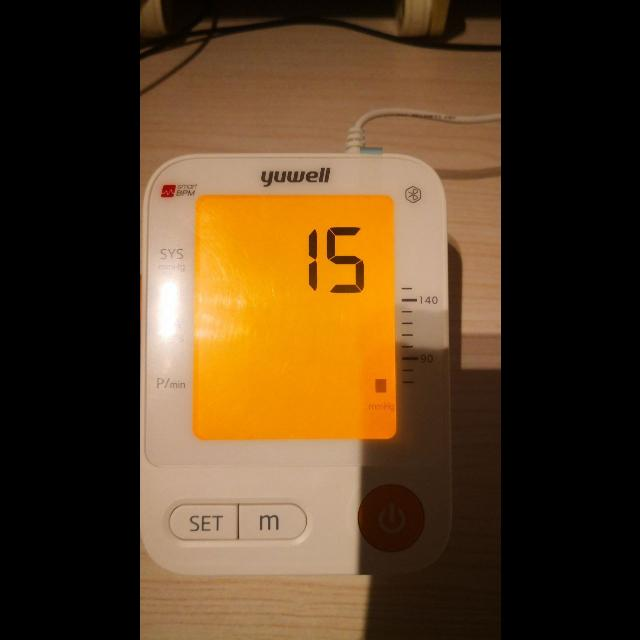Blood-Pressure-Monitor: (142, 152, 452, 580)
